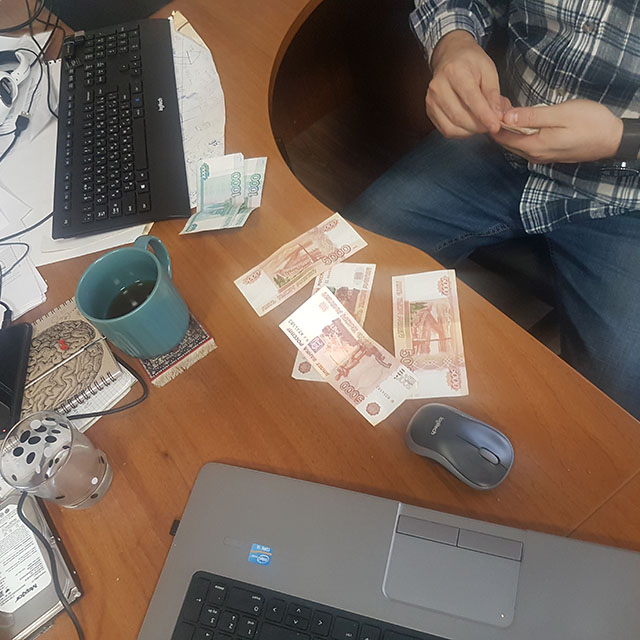banknotes: (279, 290, 418, 427), (235, 211, 366, 316), (293, 261, 377, 387), (391, 269, 469, 400), (180, 154, 267, 234)
